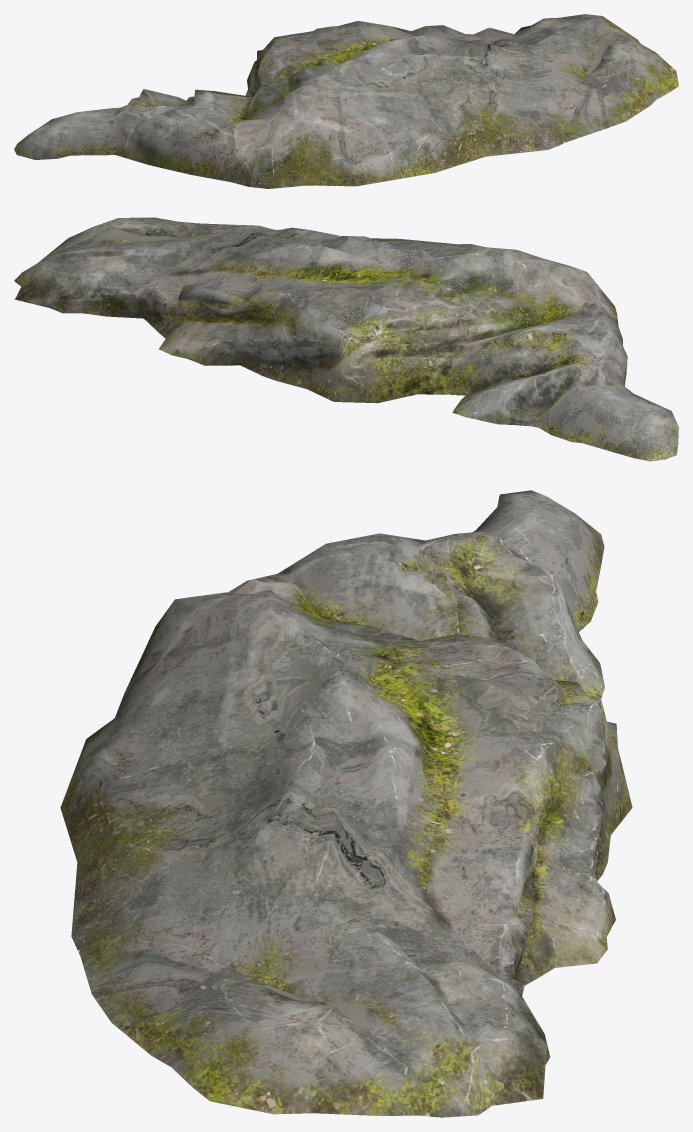
File: rock_field_02.FBX
3 renders of one model, top to bottom at view 1: azimuth 30°, elevation 25°; view 2: azimuth 150°, elevation 25°; view 3: azimuth 270°, elevation 25°, orthographic. The views are drawn at different scales.
Visible parts, largest first — view 1: rock_field_02; view 2: rock_field_02; view 3: rock_field_02.
Boxes of the visible parts, left/top/right/bottom form: rock_field_02: left=14, top=14, right=678, bottom=188; rock_field_02: left=14, top=217, right=678, bottom=461; rock_field_02: left=60, top=490, right=632, bottom=1117.
Bounding box in the file's own units: 24.16 × 3.06 × 10.11.
